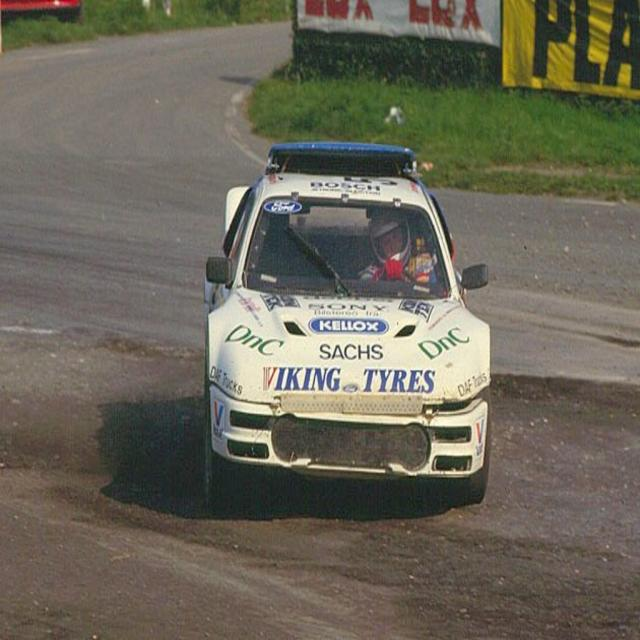car: (193, 121, 501, 521)
